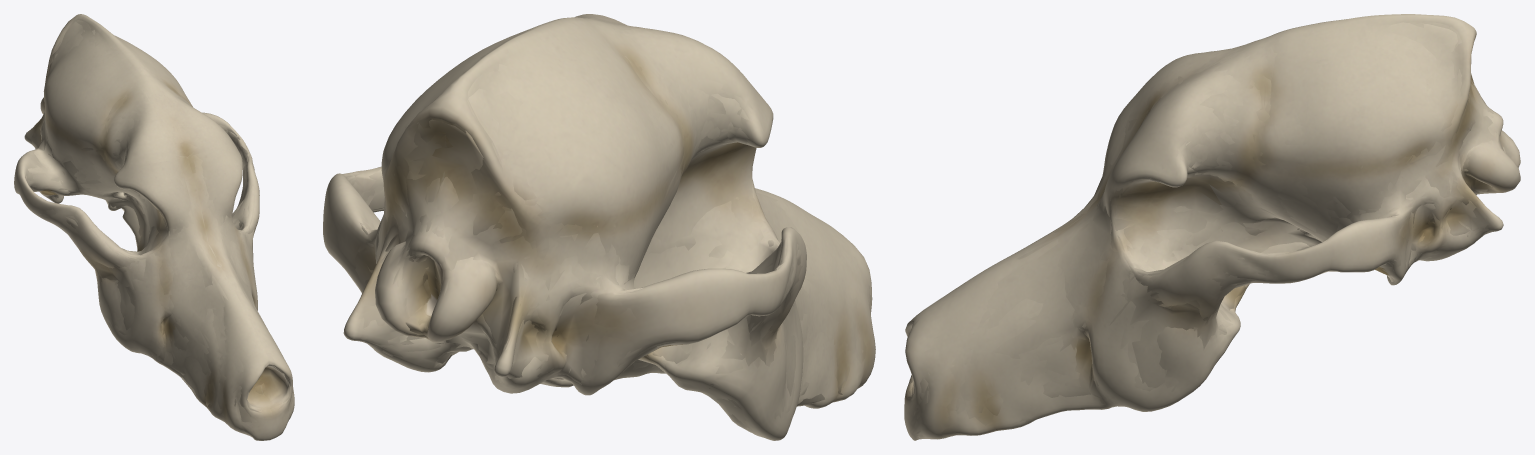
The model's file is Maxilla.fbx.
3 views of the same model, side by side, from view 1: azimuth 30°, elevation 25°; view 2: azimuth 150°, elevation 25°; view 3: azimuth 270°, elevation 25° (orthographic). The views are drawn at different scales.
Visible parts, largest first — view 1: Maxilla high, Maxilla low, Maxilla; view 2: Maxilla high, Maxilla low, Maxilla; view 3: Maxilla high, Maxilla low, Maxilla.
Boxes of the visible parts, x1=… form: Maxilla high: x1=14, y1=14, x2=294, y2=440; Maxilla low: x1=25, y1=21, x2=292, y2=422; Maxilla: x1=17, y1=20, x2=292, y2=437; Maxilla high: x1=323, y1=14, x2=875, y2=440; Maxilla low: x1=347, y1=17, x2=870, y2=409; Maxilla: x1=338, y1=22, x2=870, y2=429; Maxilla high: x1=904, y1=14, x2=1520, y2=440; Maxilla low: x1=909, y1=22, x2=1505, y2=437; Maxilla: x1=908, y1=22, x2=1510, y2=439.
Bounding box in the file's own units: 23.03 × 29.59 × 39.26.
1 material, 1 textured.
